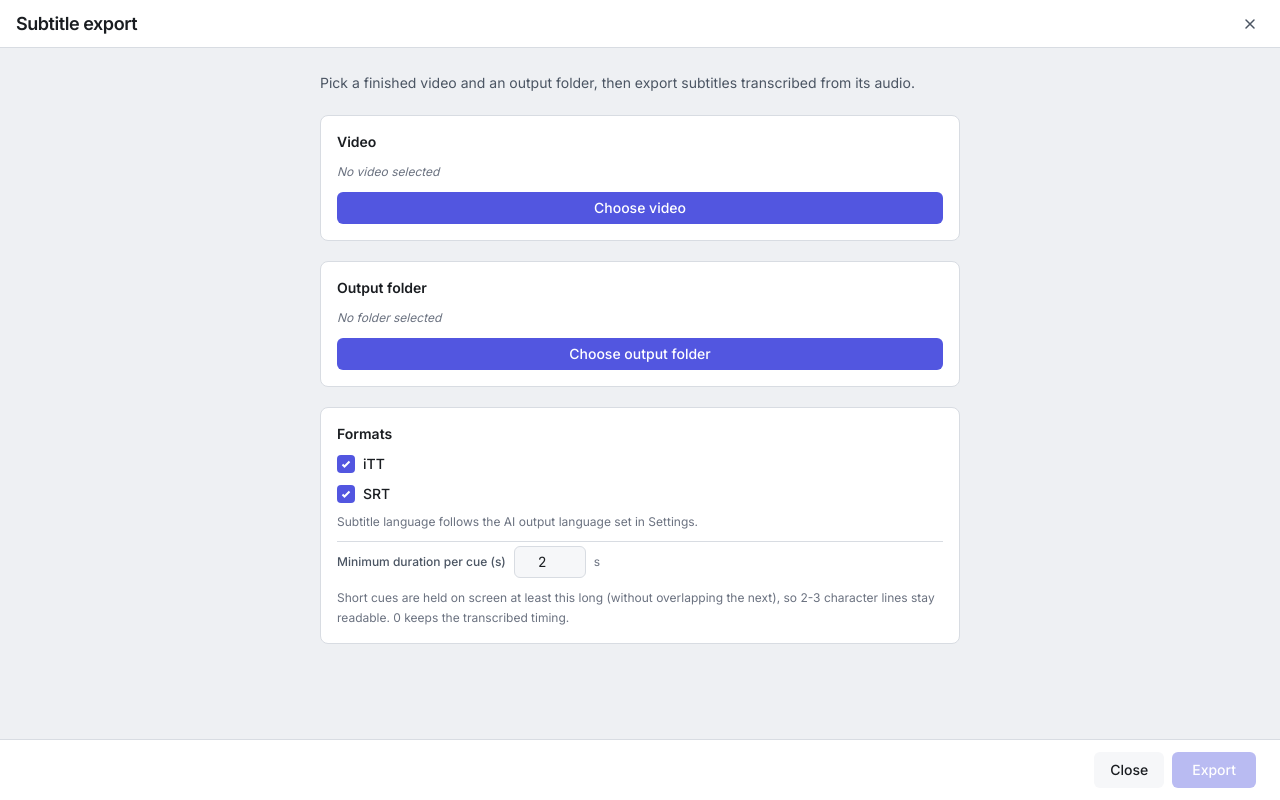
Test: SubtitlesPage › disables Export until both a video and folder are chosen
This screenshot has width=1280, height=800.
Expected: the button "Export" is disabled, [1172,752,1256,788]
Click the button "Choose video" at (640, 208), box [337,192,943,224]
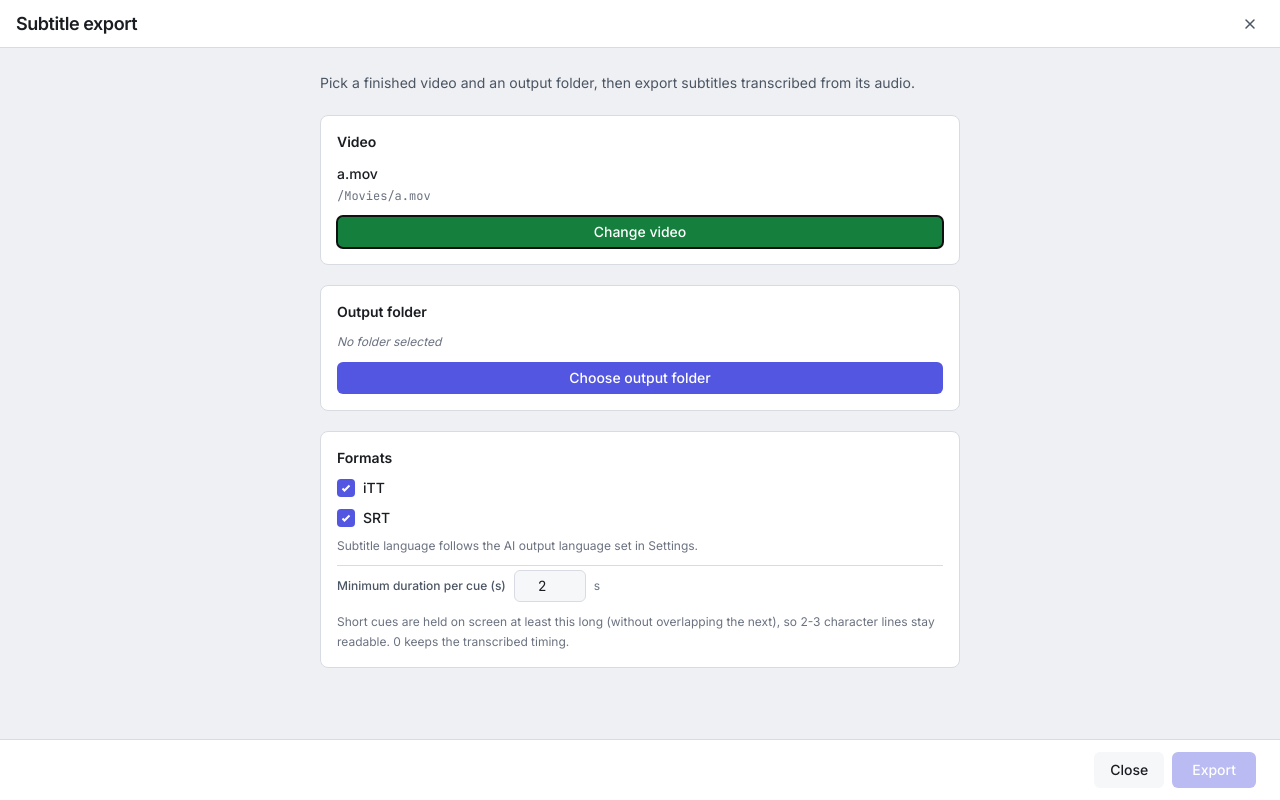
Expected: the button "Export" is disabled, [1172,752,1256,788]
Now the text "a.mov" is shown, box [337,165,378,182]
Click the button "Choose output folder" at (640, 378), box [337,362,943,394]
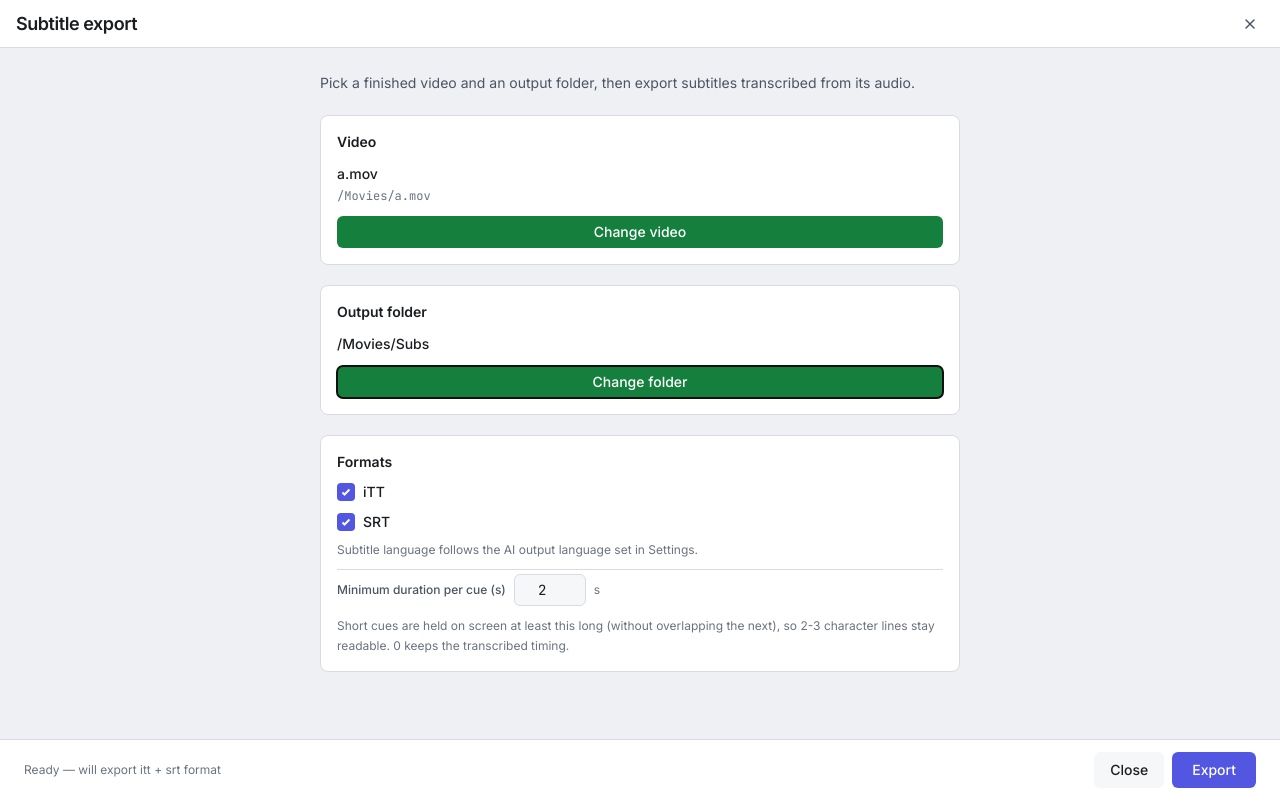
Now the text "/Movies/Subs" is shown, box [337,335,429,352]
Now the button "Export" is enabled, box [1172,752,1256,788]
